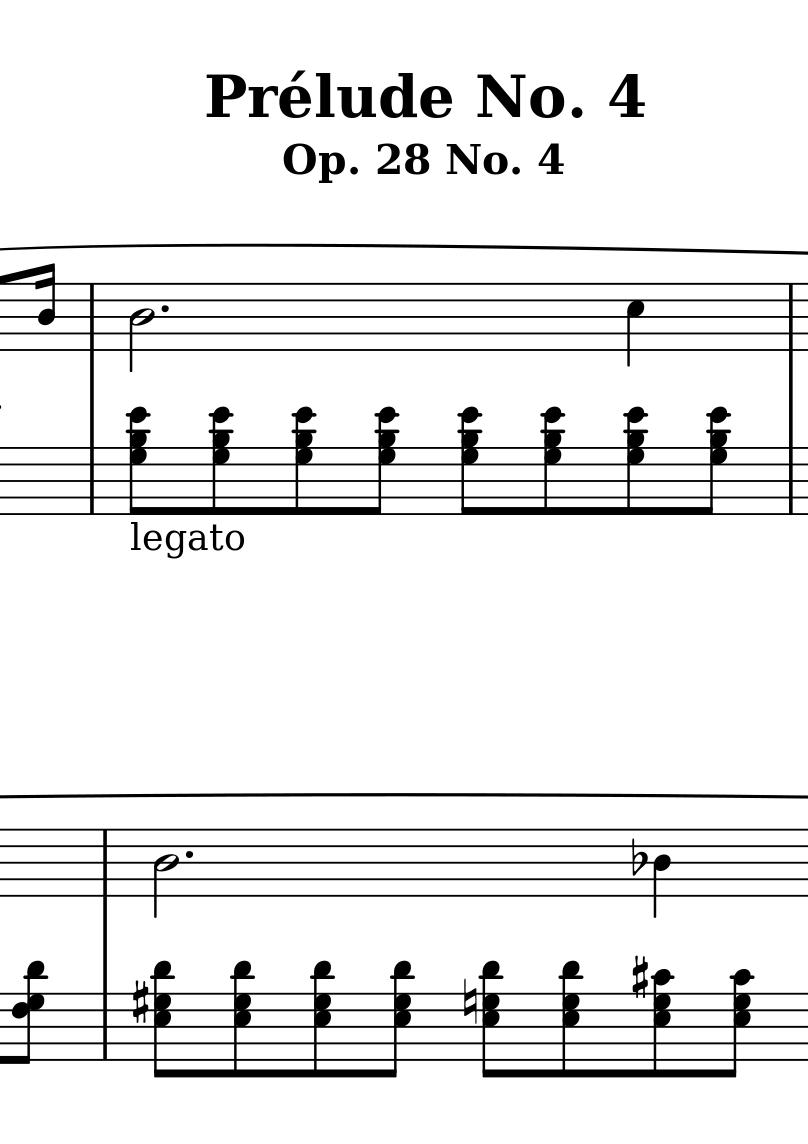16_4: (34, 262, 60, 354)
2_4: (127, 280, 157, 374), (152, 827, 183, 917)
4_4: (651, 826, 675, 919)
4_5: (626, 280, 649, 369)
8_th: (307, 958, 339, 1081), (148, 958, 179, 1081), (13, 956, 47, 1068), (368, 404, 401, 517), (383, 955, 413, 1078), (702, 403, 735, 514), (478, 956, 507, 1080), (723, 966, 755, 1076), (555, 958, 584, 1079), (648, 967, 679, 1080), (621, 404, 652, 516), (228, 956, 256, 1079), (538, 405, 569, 516), (206, 404, 236, 515), (456, 404, 485, 516), (290, 406, 319, 514), (125, 406, 153, 515)
Flat: (630, 835, 649, 879)
Natural: (461, 976, 479, 1027)
Sharp: (128, 979, 153, 1026), (630, 951, 651, 1002)
Single_barline: (781, 285, 801, 350), (782, 448, 801, 514), (97, 993, 115, 1060), (96, 831, 114, 897), (84, 447, 101, 514), (84, 284, 101, 350)
dot: (182, 848, 196, 864), (158, 301, 172, 316)
